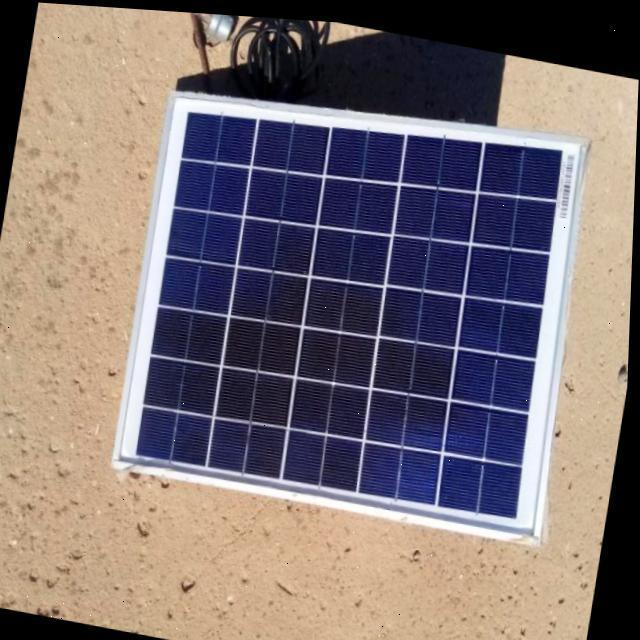Normal Solar Panel: (114, 55, 602, 539)
